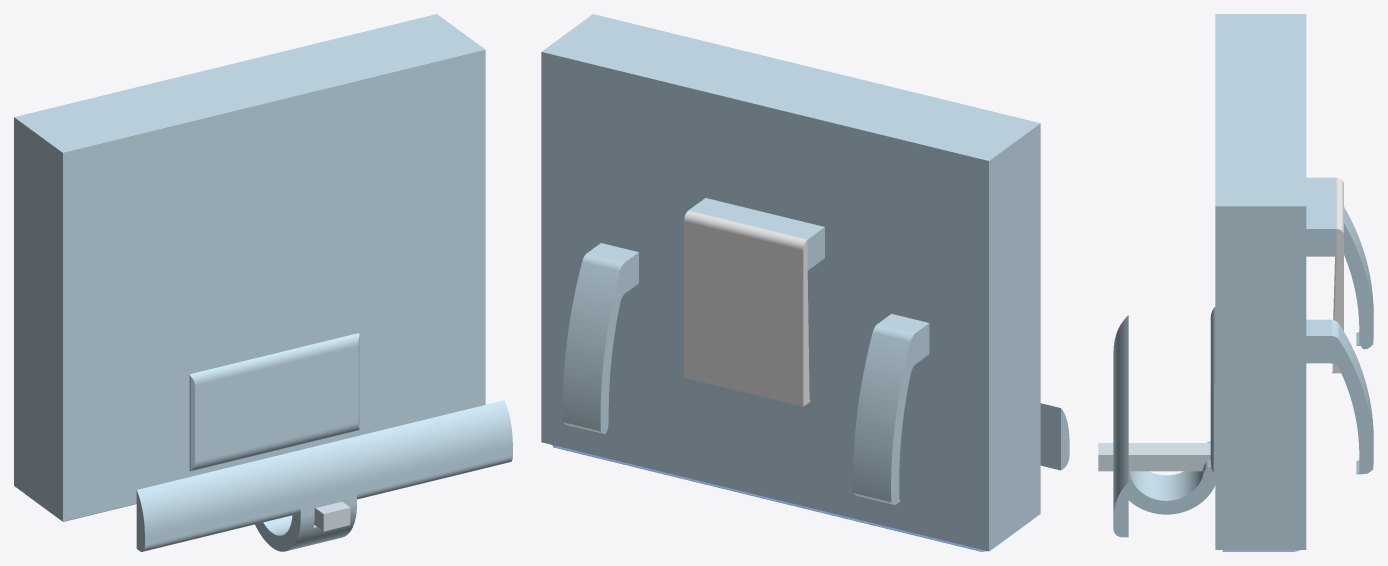
The model's file is SusPENse.gltf.
3 views of the same model, side by side, from view 1: azimuth 30°, elevation 25°; view 2: azimuth 150°, elevation 25°; view 3: azimuth 270°, elevation 25° (orthographic). The views are drawn at different scales.
Parts seen in each view (by area): view 1: Part 3, Part 1, Part 5; view 2: Part 3, Part 1, Part 4, Part 2; view 3: Part 3, Part 1, Part 5, Part 4.
Part boxes in pixels (box(x1,y1,x2,y2)): Part 3: box(14, 14, 512, 551); Part 1: box(137, 335, 512, 551); Part 5: box(314, 501, 350, 531); Part 3: box(541, 14, 1069, 551); Part 1: box(541, 53, 1069, 550); Part 4: box(684, 210, 810, 406); Part 2: box(552, 445, 1030, 551); Part 3: box(1113, 14, 1373, 549); Part 1: box(1113, 211, 1373, 537); Part 5: box(1098, 443, 1210, 471); Part 4: box(1332, 177, 1343, 373).
Size of the model in its own units: 0.03 by 0.0285 by 0.0182.
